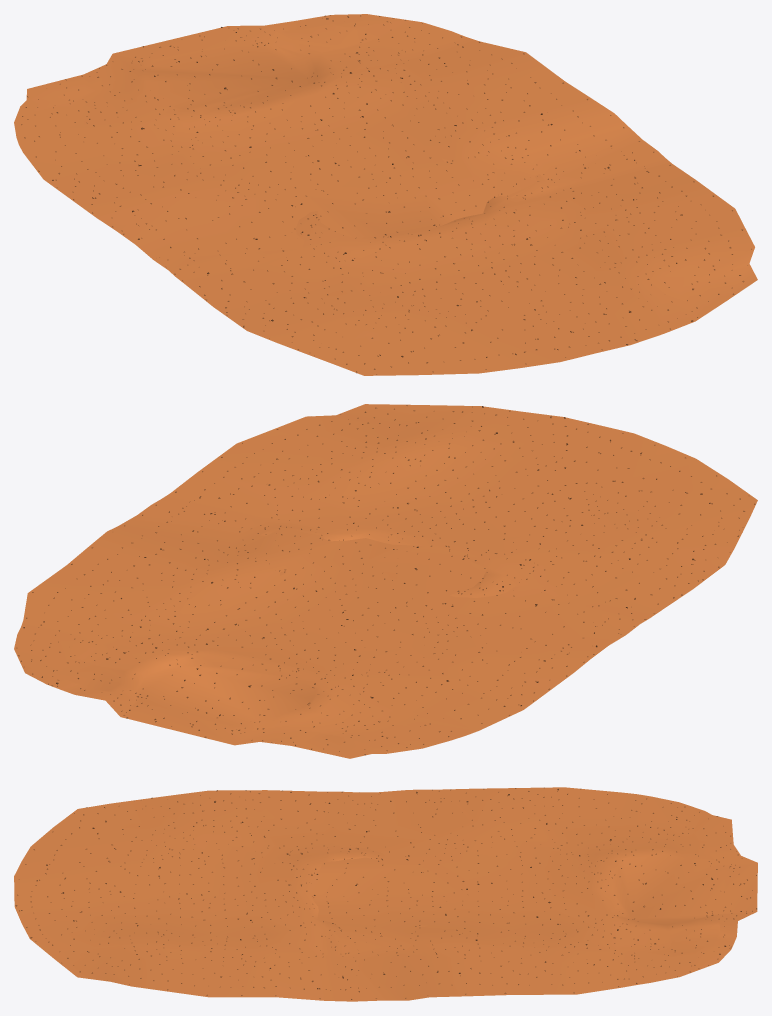
The model's file is Menu piso.fbx.
3 renders of one model, top to bottom at view 1: azimuth 30°, elevation 25°; view 2: azimuth 150°, elevation 25°; view 3: azimuth 270°, elevation 25°, orthographic. The views are drawn at different scales.
Parts seen in each view (by area): view 1: Menu piso; view 2: Menu piso; view 3: Menu piso.
Part boxes in pixels (x1,y1,x2,y2): Menu piso: (14,14,757,375); Menu piso: (14,404,757,758); Menu piso: (14,787,757,1001).
Bounding box in the file's own units: 62097 × 1351 × 92157.
